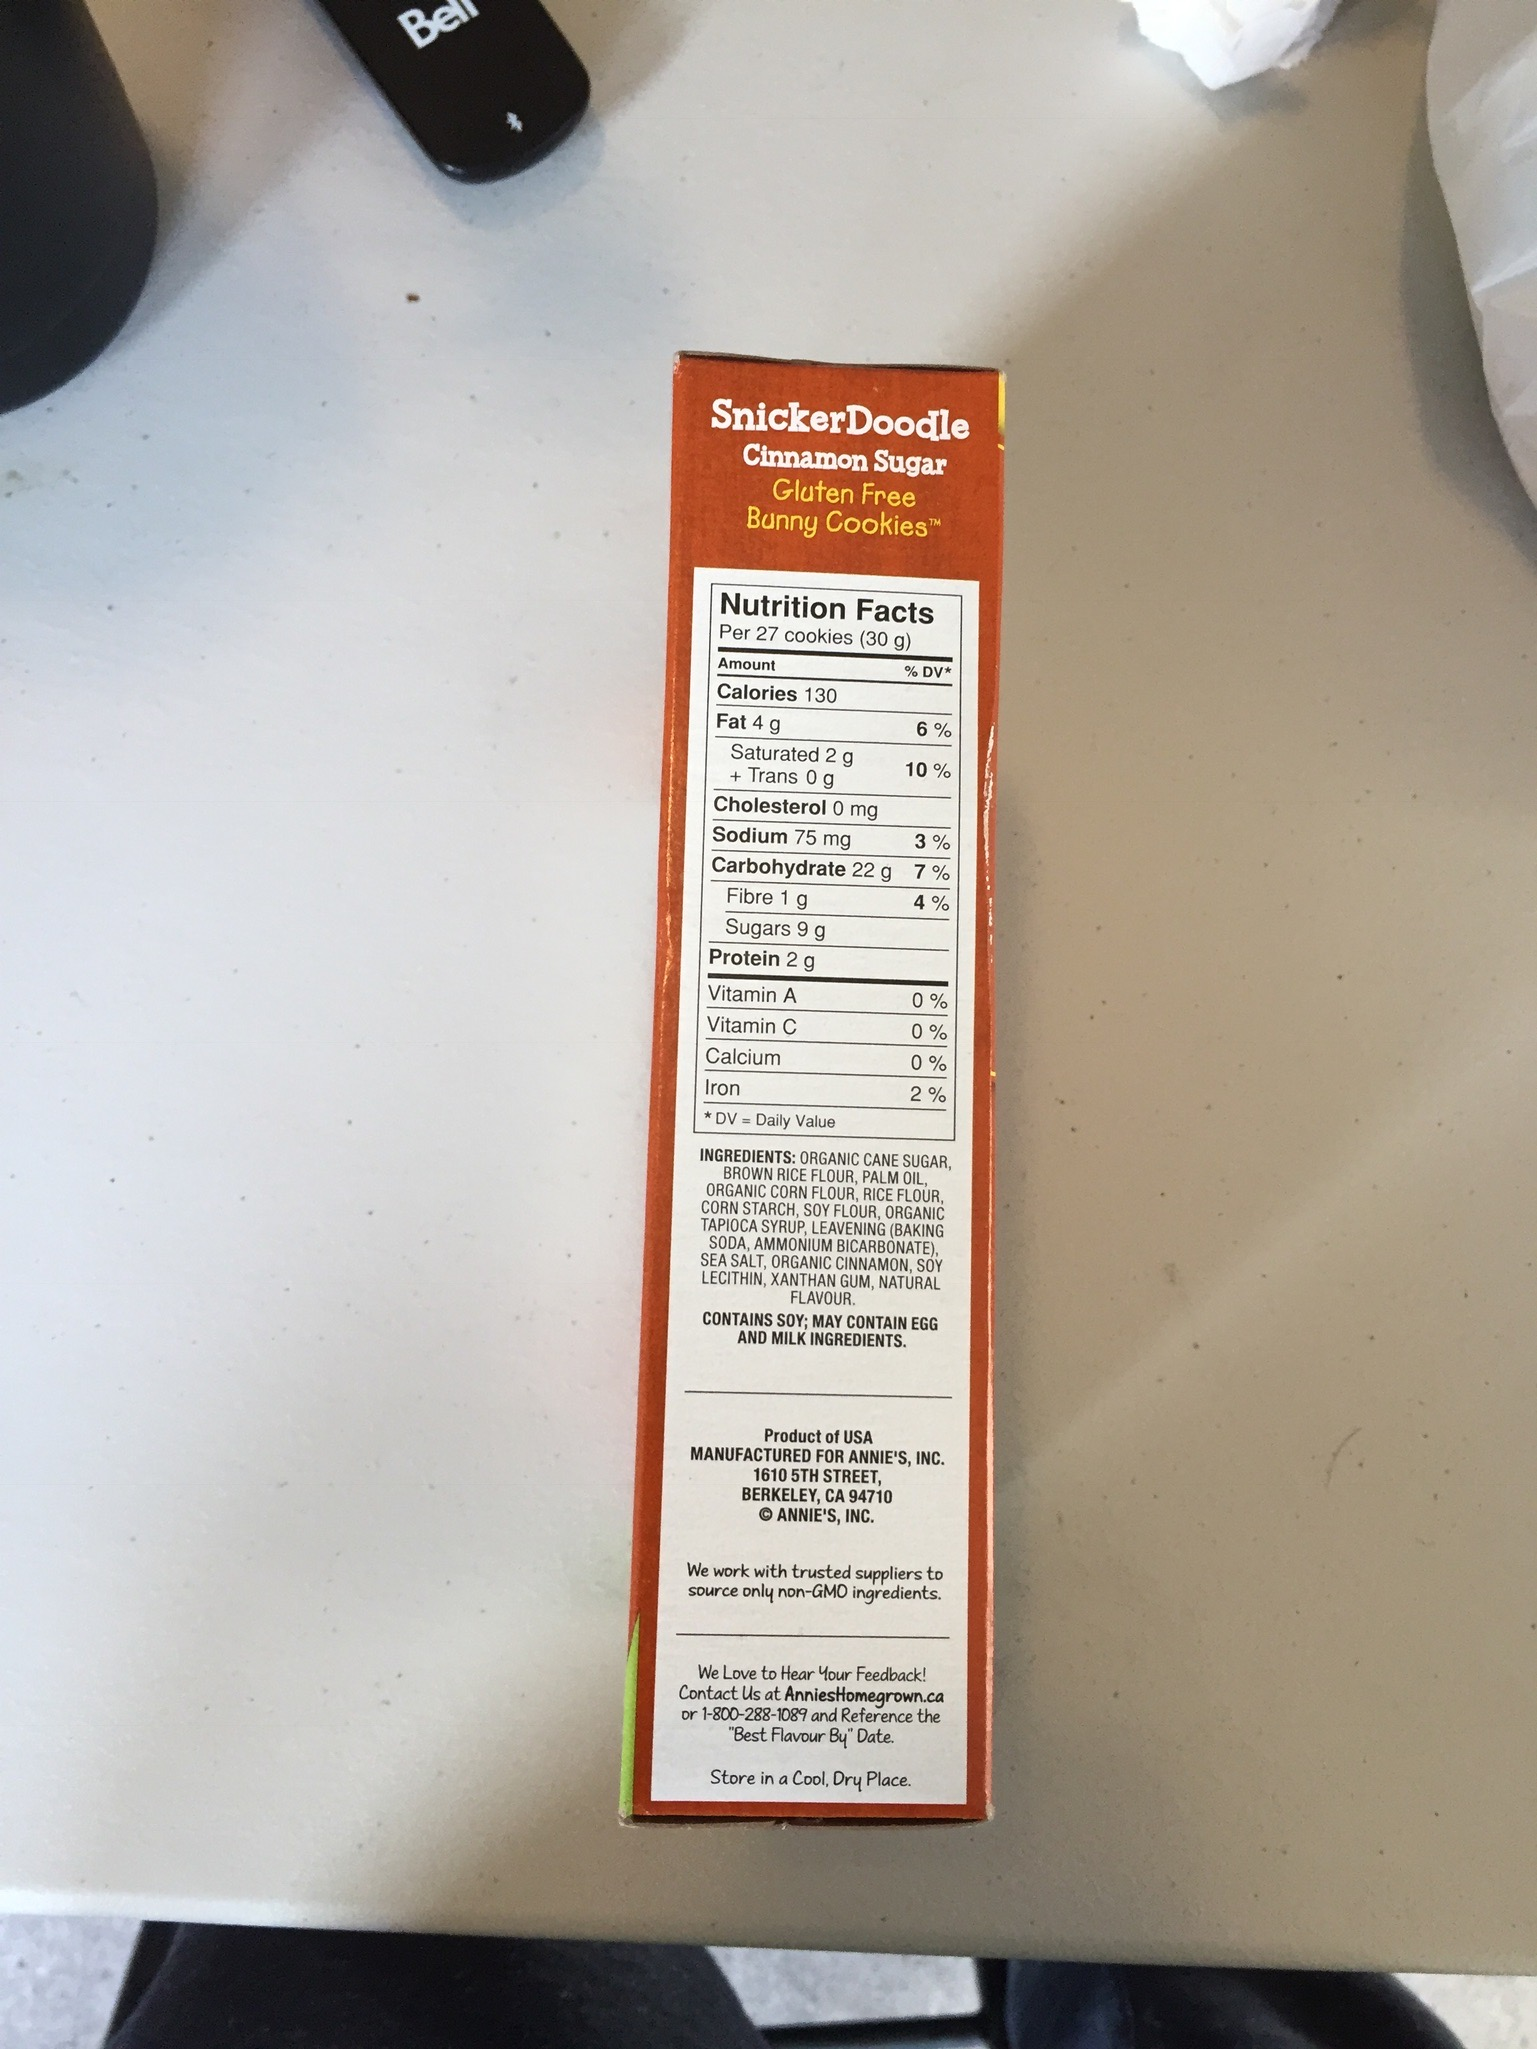annies_snickerdoodle_cinnamon_sugar: (696, 375, 970, 1828)
